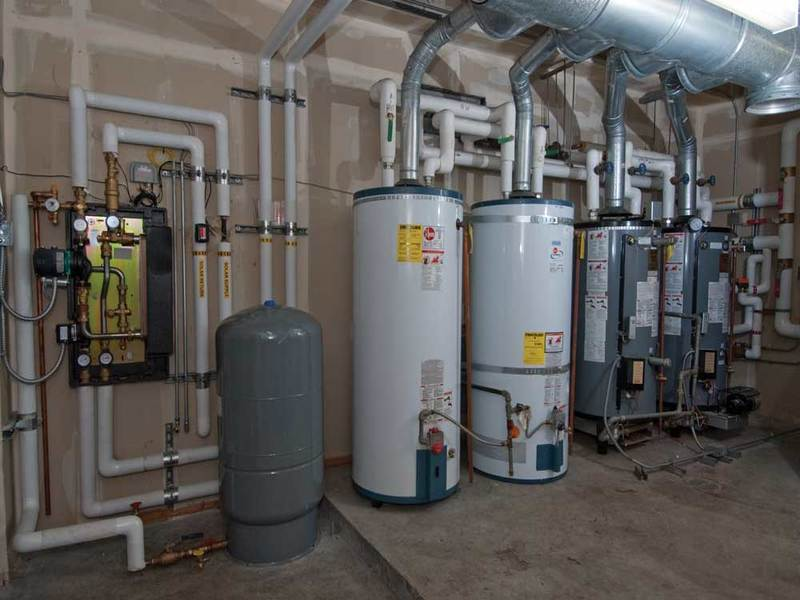valve: (374, 108, 409, 151), (771, 256, 792, 302), (492, 129, 522, 147), (740, 215, 790, 225)
